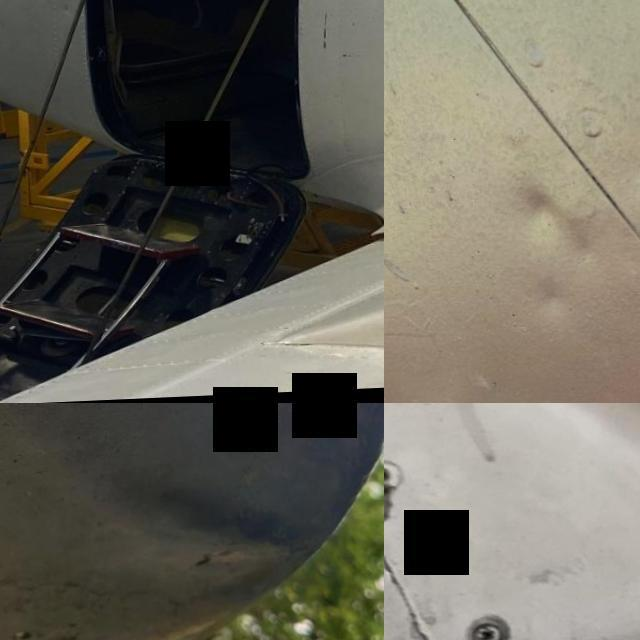Dent: (85, 433, 342, 620), (492, 162, 616, 282), (56, 6, 68, 16)
